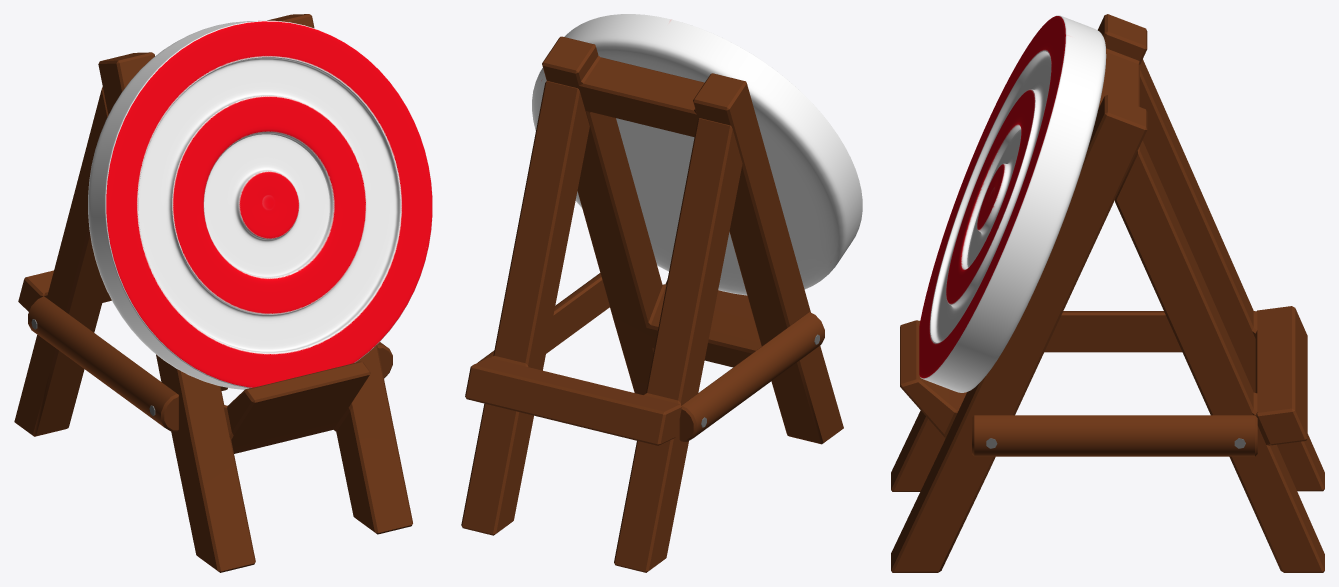
File: Target.fbx
3 renders of one model, left to right at view 1: azimuth 30°, elevation 25°; view 2: azimuth 150°, elevation 25°; view 3: azimuth 270°, elevation 25°, orthographic. The views are drawn at different scales.
Visible parts, largest first — view 1: Target; view 2: Target; view 3: Target.
Boxes of the visible parts, box(x1,y1,x2,y2) form: Target: box(14, 14, 432, 572); Target: box(461, 14, 862, 572); Target: box(891, 14, 1324, 572).
Size of the model in its own units: 2.46 by 3.42 by 2.75.
